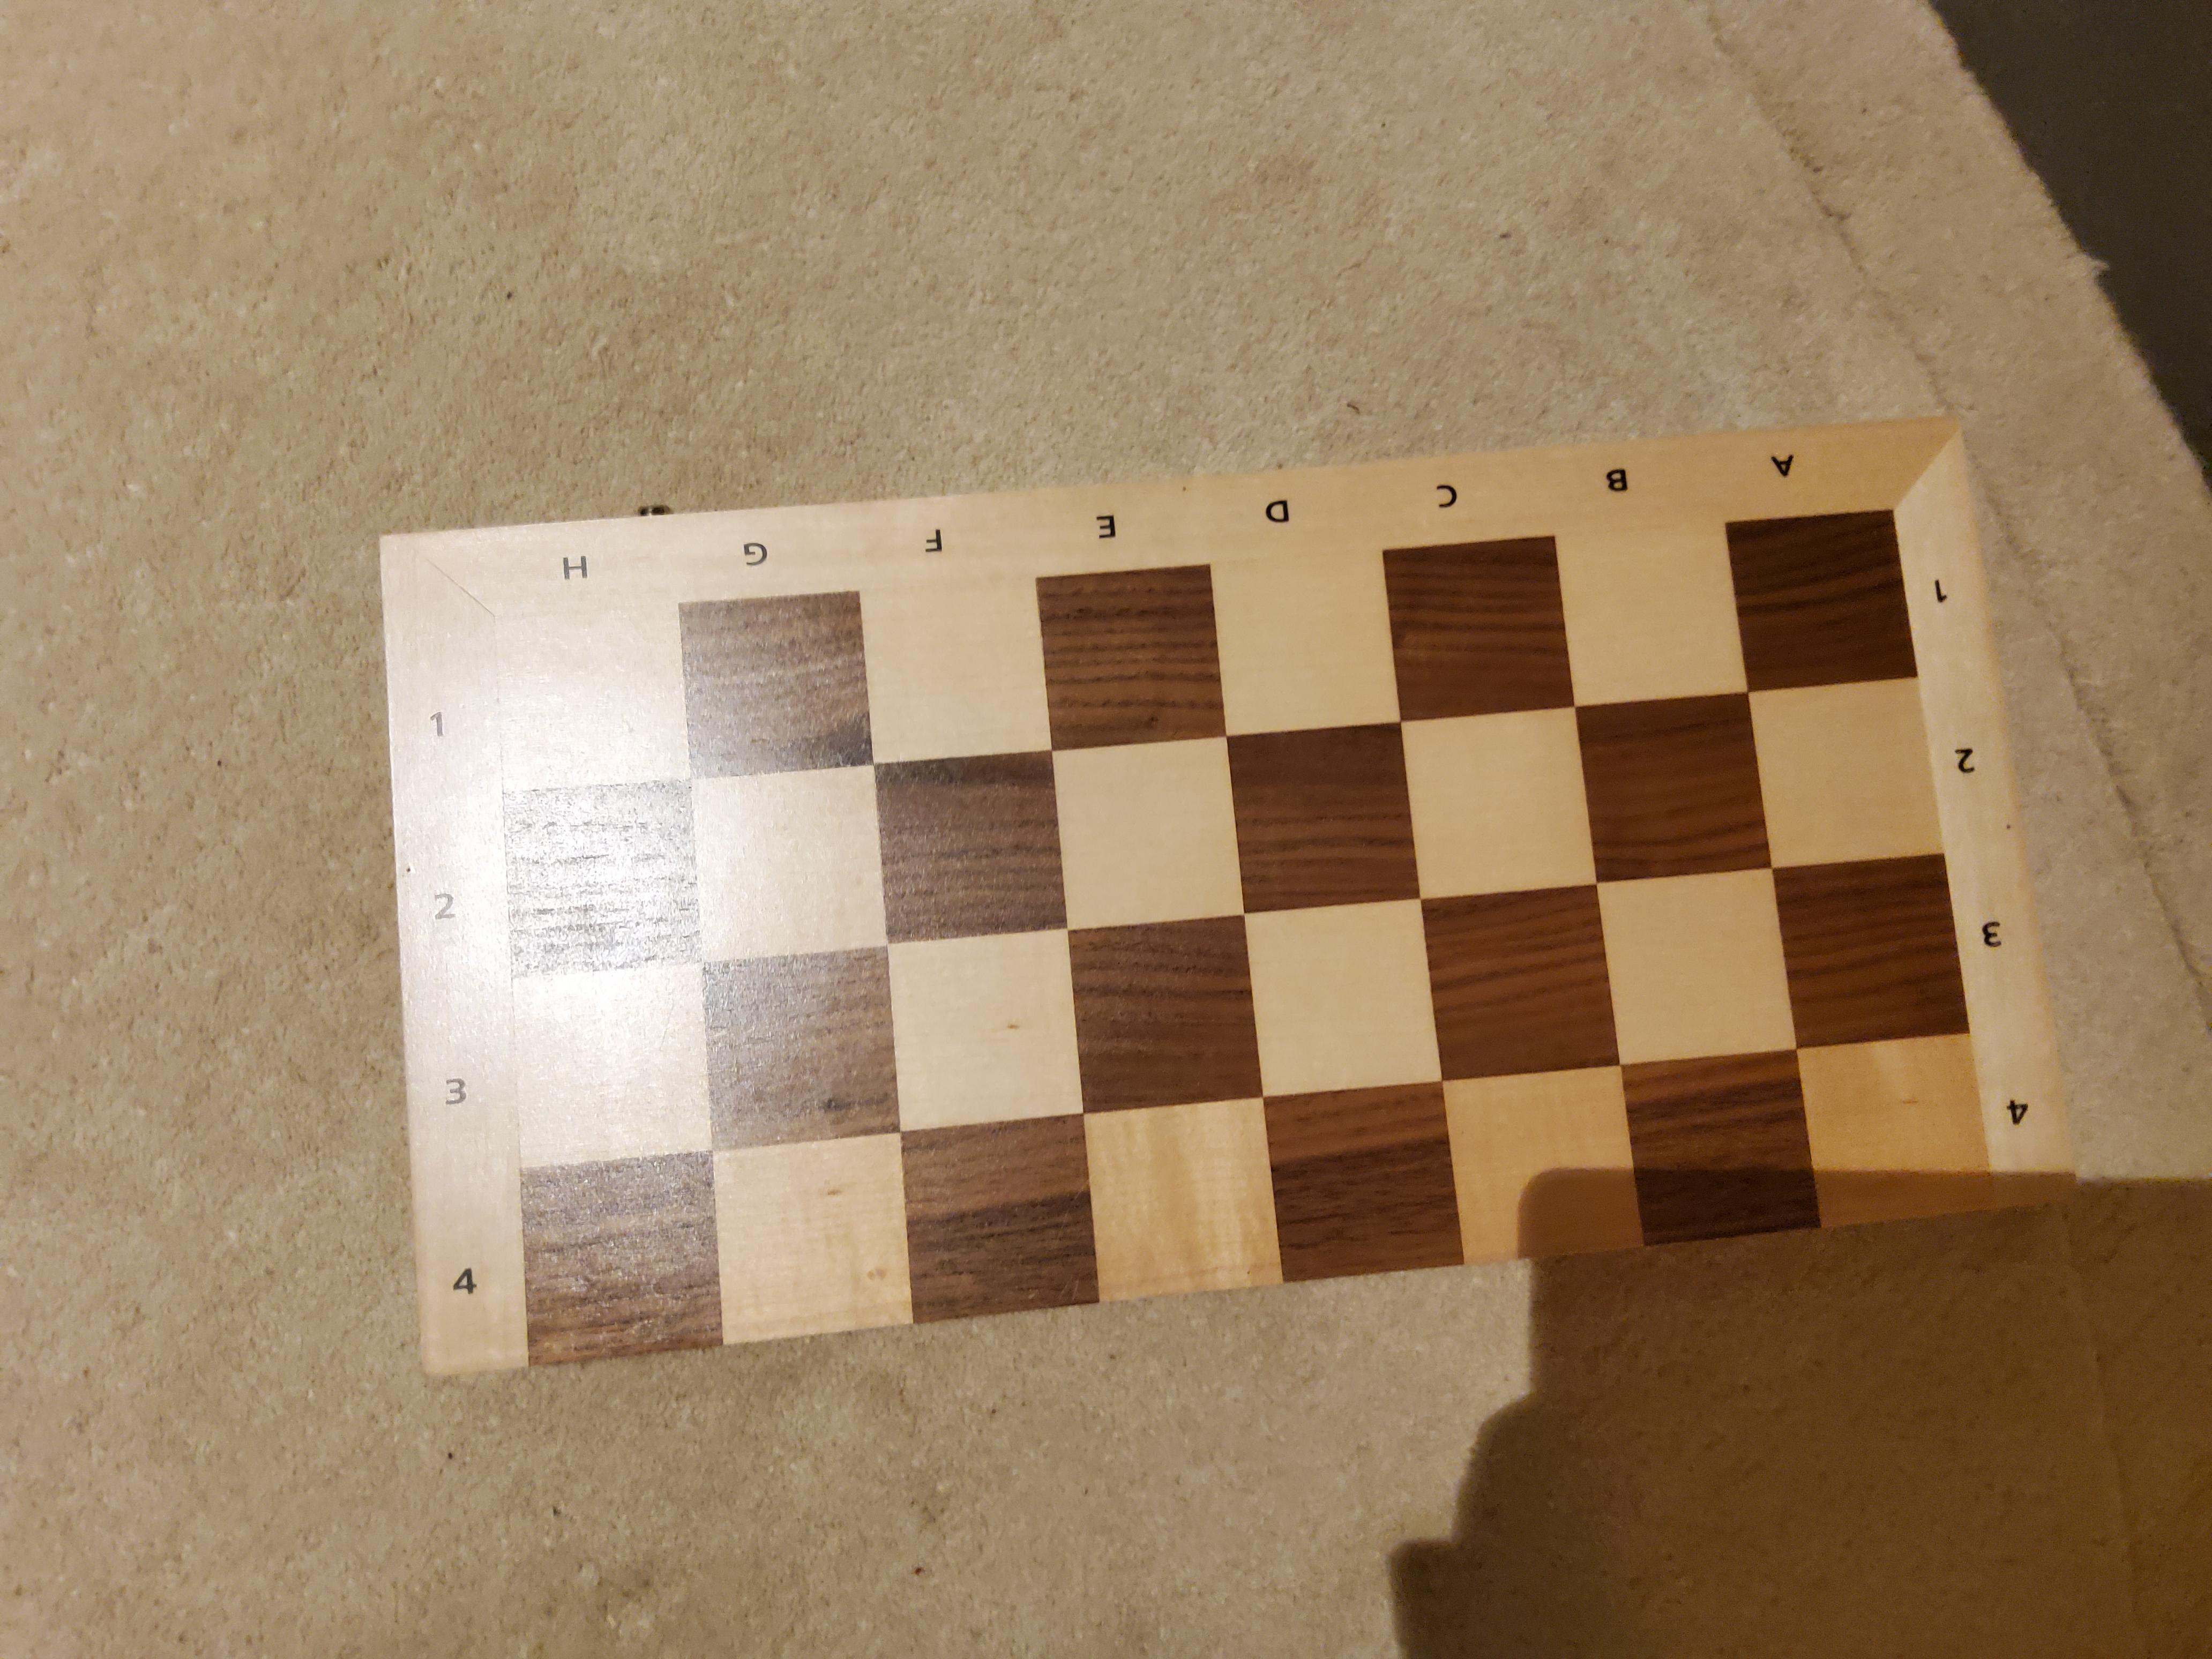schaak: (368, 425, 2106, 1380)
